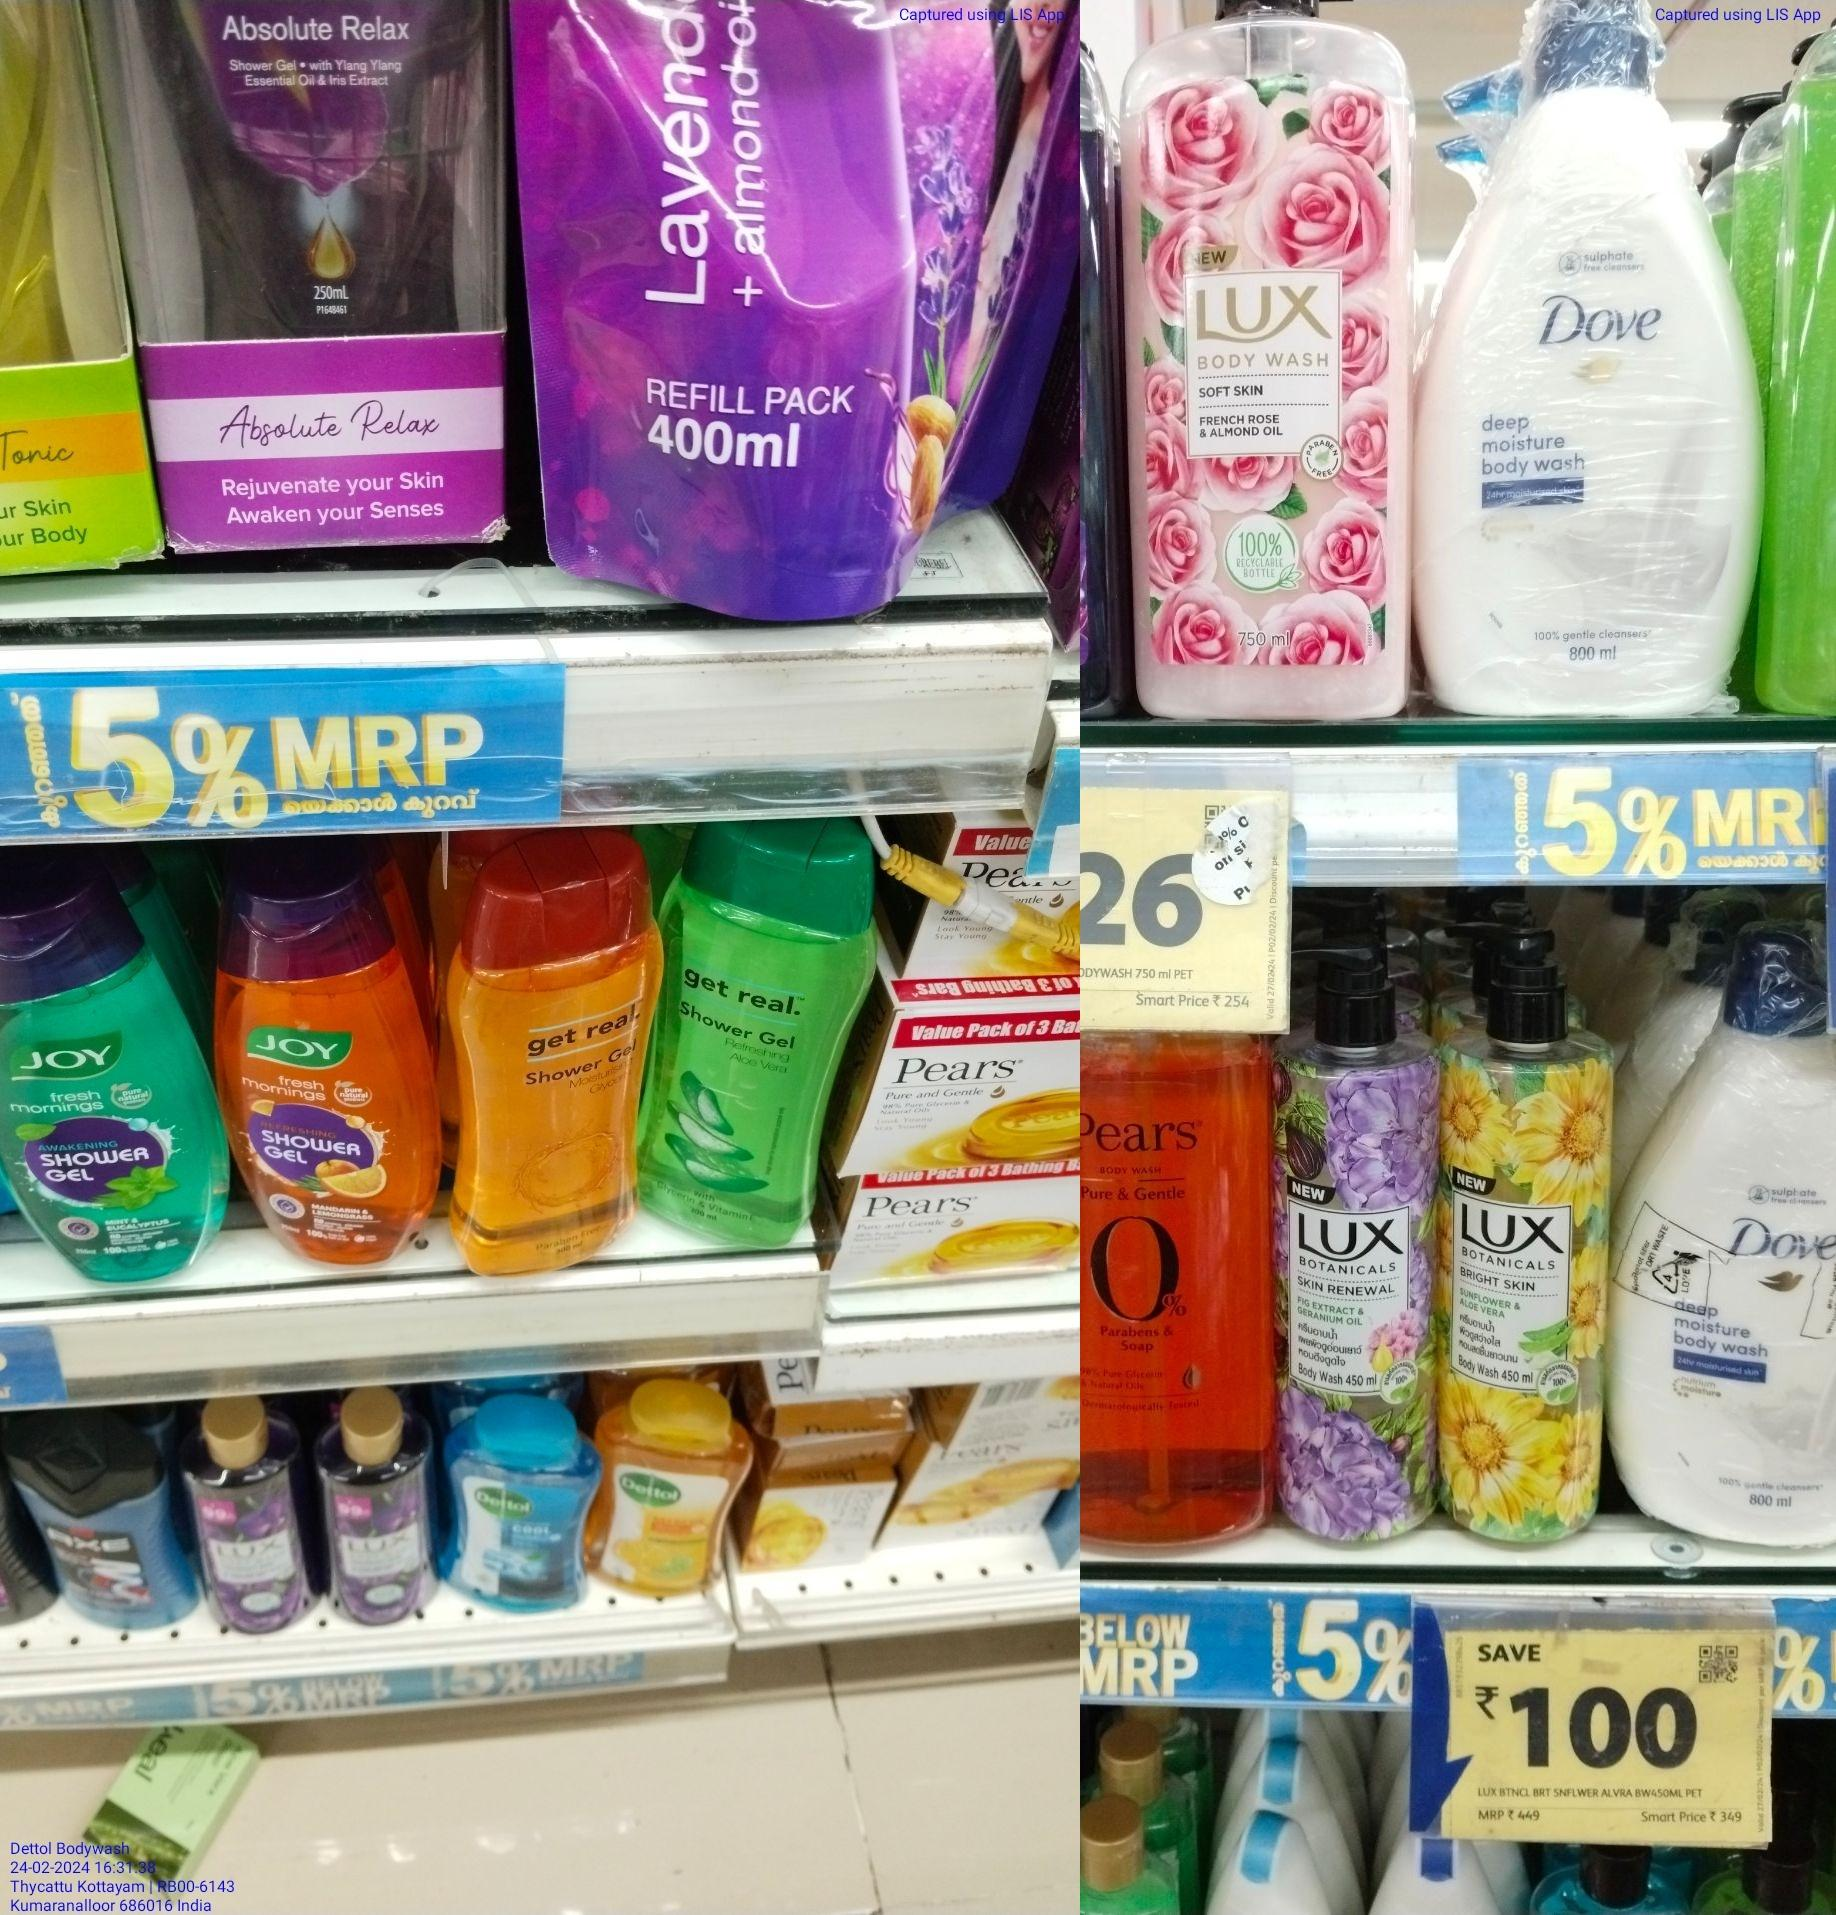Dettol_Bodywash_Cool: (444, 1395, 585, 1617)
Dettol_Bodywash_Refresh: (605, 1388, 733, 1604)
Get_Real_Shower_Gel_Moisturising_Glycerin_300ML: (451, 843, 629, 1274)
Joy_Shower_Gel_Mandarin_and_Lemongrass_250ML: (231, 855, 427, 1267)
Joy_Shower_Gel_Mint_and_Eucalyptus_250ML: (0, 896, 222, 1289)
Lux_Black_Orchid_Scent_and_Juniper_Oil_Body_Wash_245ML: (191, 1397, 311, 1633), (318, 1392, 431, 1628)
